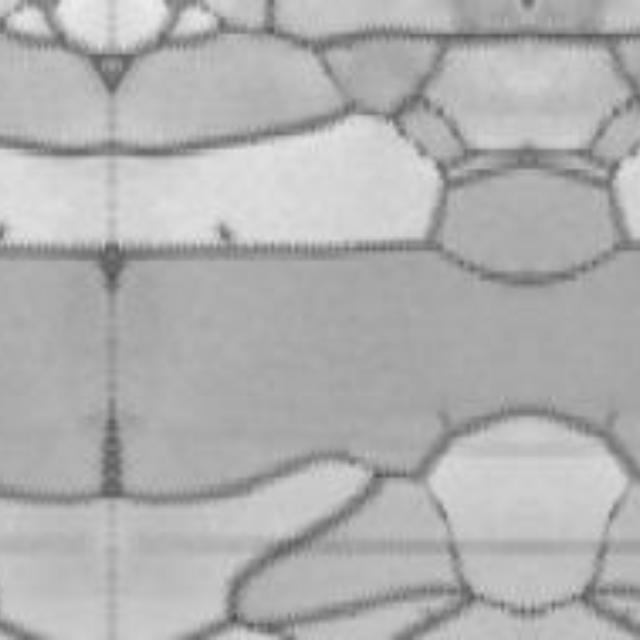good_void: (210, 223, 234, 246), (0, 223, 12, 242)
